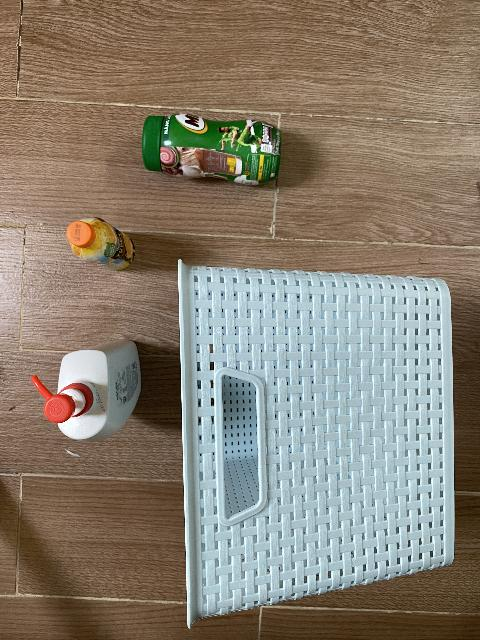cart: (176, 257, 456, 633)
life-buoy: (30, 339, 141, 443)
milo: (141, 114, 282, 186)
teppy_orange_juice: (67, 217, 135, 270)
